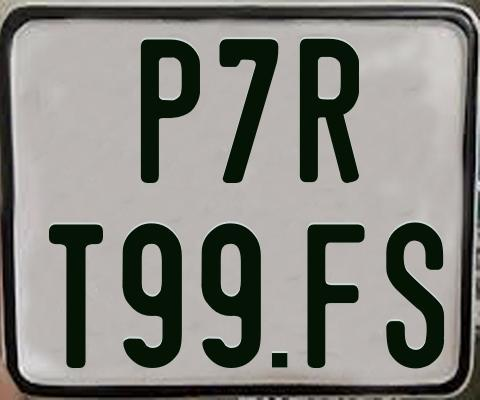7: (219, 38, 279, 183)
9: (201, 222, 265, 367), (120, 221, 182, 369)
F: (305, 224, 366, 373)
P: (141, 39, 205, 185)
R: (299, 37, 361, 182)
S: (386, 219, 450, 370)
T: (47, 224, 101, 372)
